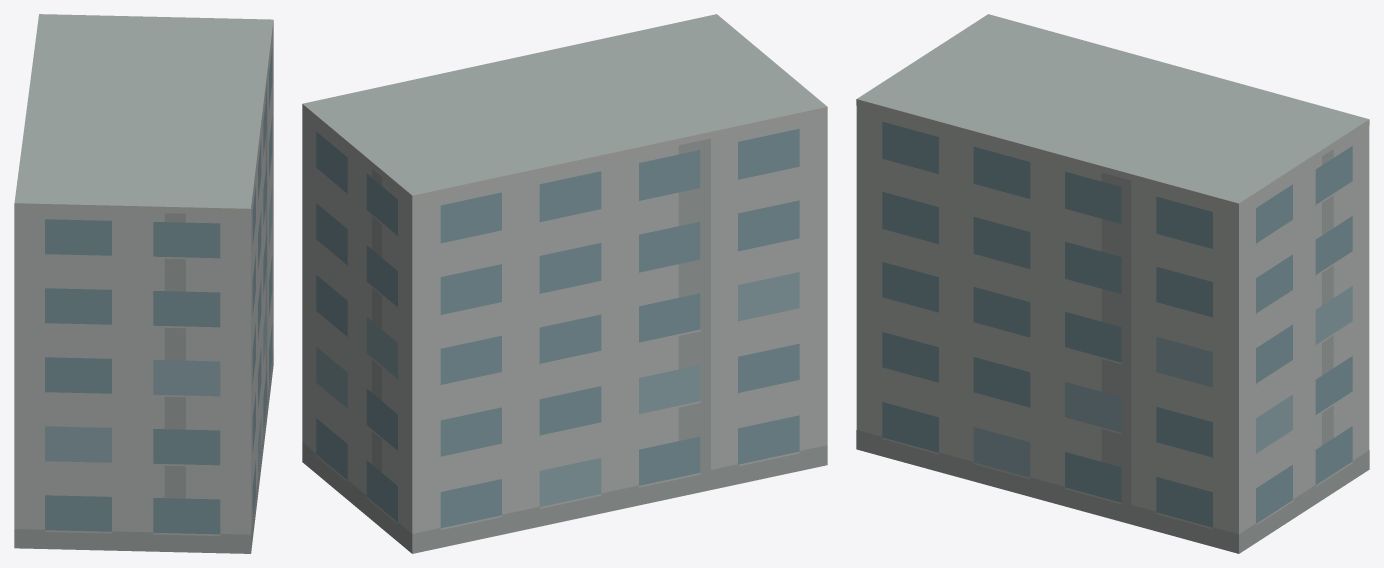
File: survey-upis-32893503.glb
3 renders of one model, left to right at view 1: azimuth 30°, elevation 25°; view 2: azimuth 150°, elevation 25°; view 3: azimuth 270°, elevation 25°, orthographic. The views are drawn at different scales.
Visible parts, largest first — view 1: survey-upis-32893503.tmp; view 2: survey-upis-32893503.tmp; view 3: survey-upis-32893503.tmp.
Part boxes in pixels (bbox=[...]): survey-upis-32893503.tmp: bbox=[14, 14, 273, 553]; survey-upis-32893503.tmp: bbox=[302, 14, 827, 553]; survey-upis-32893503.tmp: bbox=[856, 14, 1369, 553].
Size of the model in its own units: 15.32 by 13.2 by 17.52.
